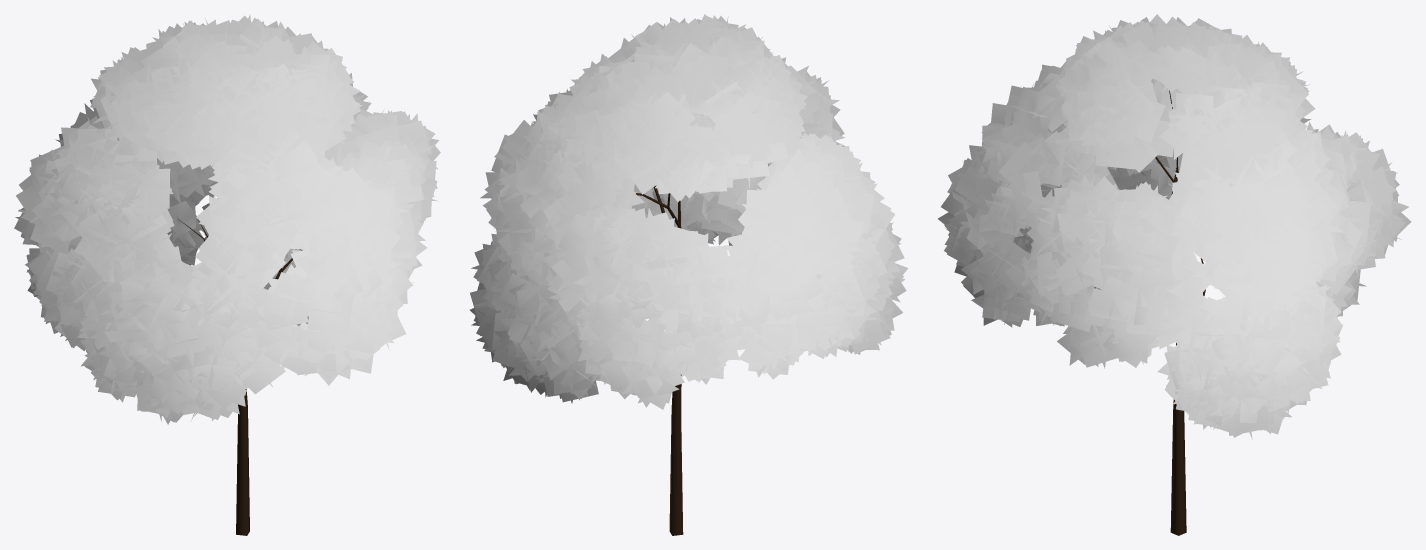
The model's file is StylizedTree_LOD0.fbx.
3 views of the same model, side by side, from view 1: azimuth 30°, elevation 25°; view 2: azimuth 150°, elevation 25°; view 3: azimuth 270°, elevation 25° (orthographic). The views are drawn at different scales.
Visible parts, largest first — view 1: Leaf_LOD0, Trunk_LOD0; view 2: Leaf_LOD0, Trunk_LOD0; view 3: Leaf_LOD0, Trunk_LOD0.
Part boxes in pixels (bbox=[...]): Leaf_LOD0: bbox=[14, 14, 440, 424]; Trunk_LOD0: bbox=[178, 219, 301, 535]; Leaf_LOD0: bbox=[470, 14, 908, 409]; Trunk_LOD0: bbox=[636, 186, 683, 535]; Leaf_LOD0: bbox=[937, 14, 1411, 439]; Trunk_LOD0: bbox=[1155, 90, 1205, 535].
Size of the model in its own units: 5.32 by 6.96 by 6.
